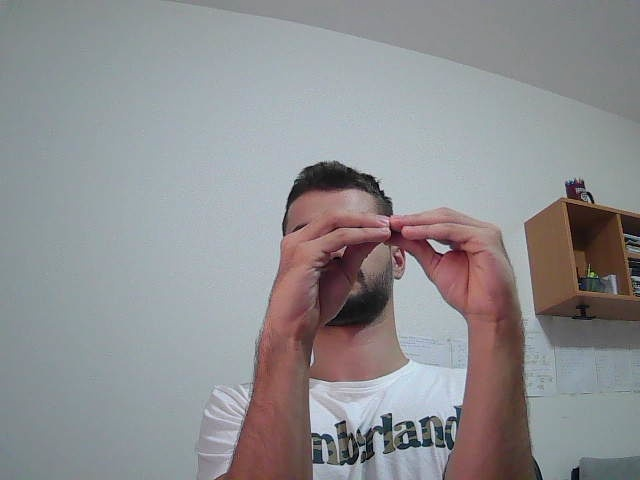b: (248, 202, 536, 468)
